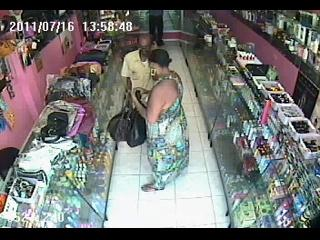Normal: (132, 48, 190, 192), (120, 34, 156, 114), (106, 95, 133, 142), (148, 10, 165, 46), (75, 50, 108, 66)
